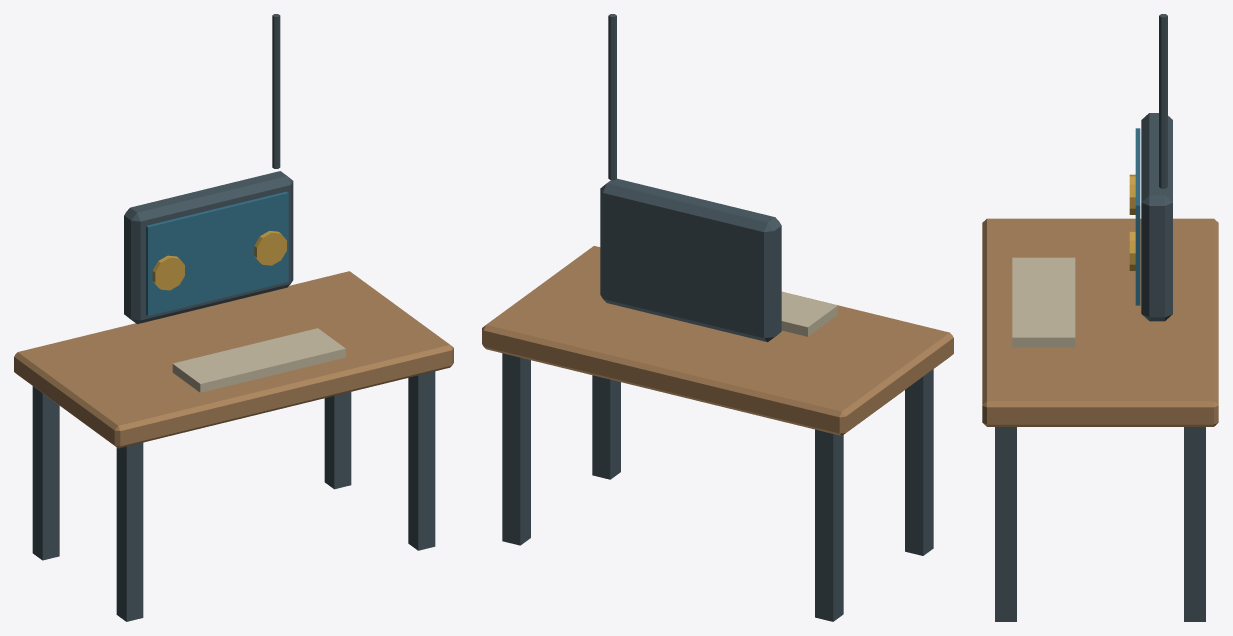
File: radio_desk.glb
3 views of the same model, side by side, from view 1: azimuth 30°, elevation 25°; view 2: azimuth 150°, elevation 25°; view 3: azimuth 270°, elevation 25° (orthographic). The views are drawn at different scales.
Visible parts, largest first — view 1: radio_desk; view 2: radio_desk; view 3: radio_desk.
Part boxes in pixels (left/top/right/bottom): radio_desk: left=14, top=14, right=453, bottom=621; radio_desk: left=482, top=14, right=953, bottom=621; radio_desk: left=982, top=14, right=1218, bottom=621.
Size of the model in its own units: 1.4 by 1.96 by 0.75.
